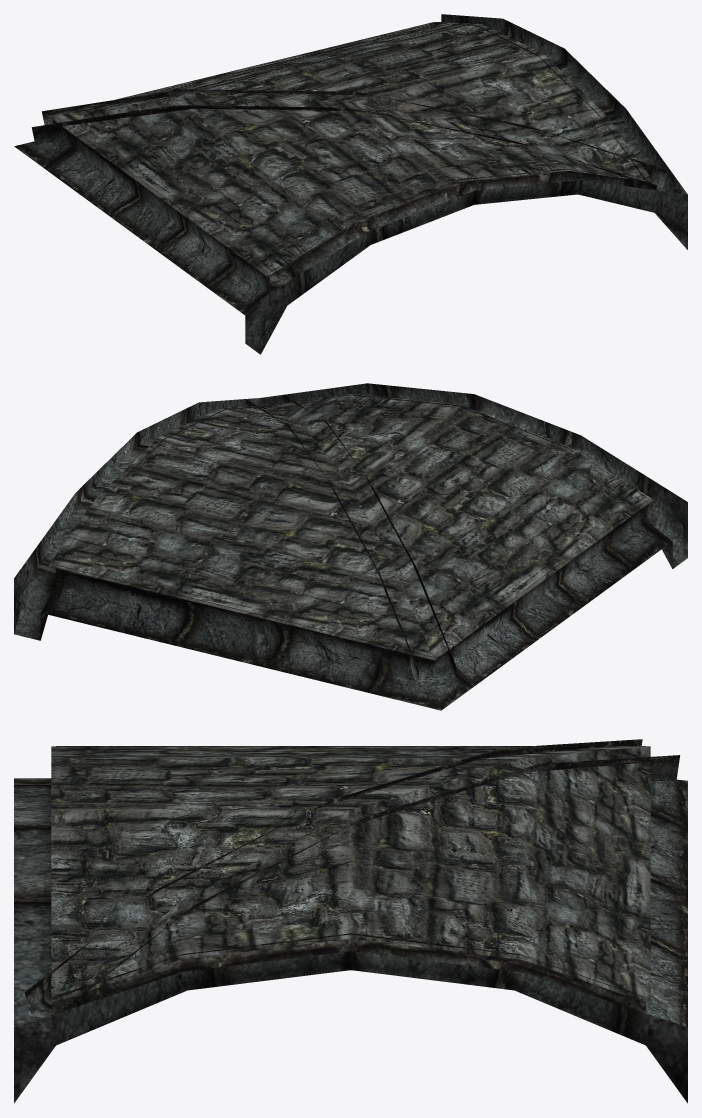
Rendered from corridor02_turn.dae.
3 views of the same model, one above another, from view 1: azimuth 30°, elevation 25°; view 2: azimuth 150°, elevation 25°; view 3: azimuth 270°, elevation 25° (orthographic). The views are drawn at different scales.
Visible parts, largest first — view 1: polySurface144, polySurface169; view 2: polySurface144, polySurface169; view 3: polySurface144, polySurface169.
Part boxes in pixels (left/top/right/bottom): polySurface144: left=48, top=22, right=653, bottom=276; polySurface169: left=14, top=14, right=687, bottom=354; polySurface144: left=48, top=394, right=653, bottom=660; polySurface169: left=14, top=383, right=687, bottom=710; polySurface144: left=51, top=746, right=650, bottom=1003; polySurface169: left=14, top=739, right=687, bottom=1103.
Bounding box in the file's own units: 4 × 1.01 × 4.
